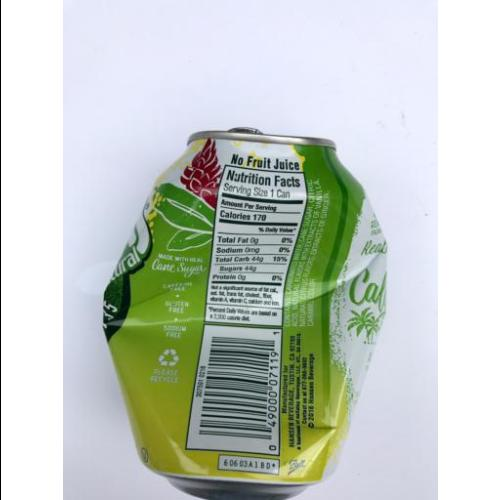metal: (100, 129, 389, 495)
